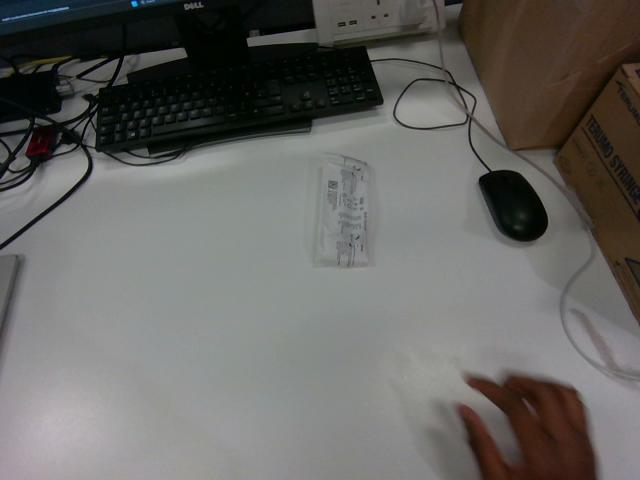syringe: (314, 155, 369, 267)
